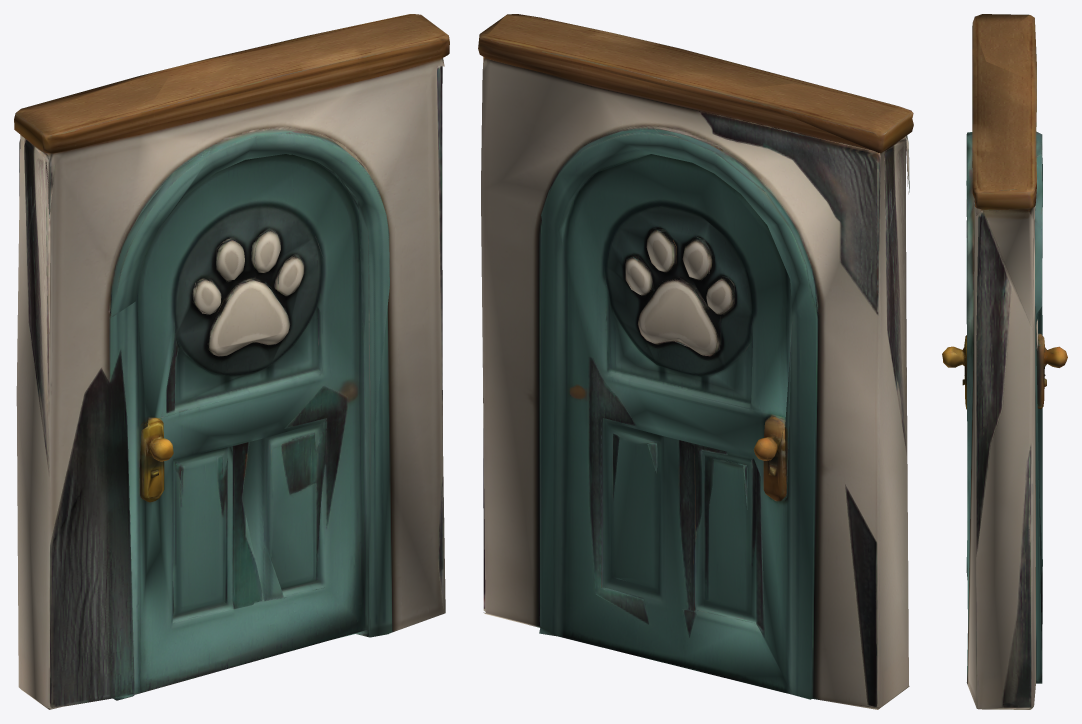
Rendered from Meshy_AI_Pawprint_Door_0610214506_texture.fbx.
3 renders of one model, left to right at view 1: azimuth 30°, elevation 25°; view 2: azimuth 150°, elevation 25°; view 3: azimuth 270°, elevation 25°, orthographic. The views are drawn at different scales.
Visible parts, largest first — view 1: Mesh_0; view 2: Mesh_0; view 3: Mesh_0.
Boxes of the visible parts, bbox=[...] form: Mesh_0: bbox=[14, 14, 449, 709]; Mesh_0: bbox=[478, 14, 913, 709]; Mesh_0: bbox=[942, 14, 1067, 709].
Size of the model in its own units: 139 by 191 by 41.54.
1 material, 1 textured.
